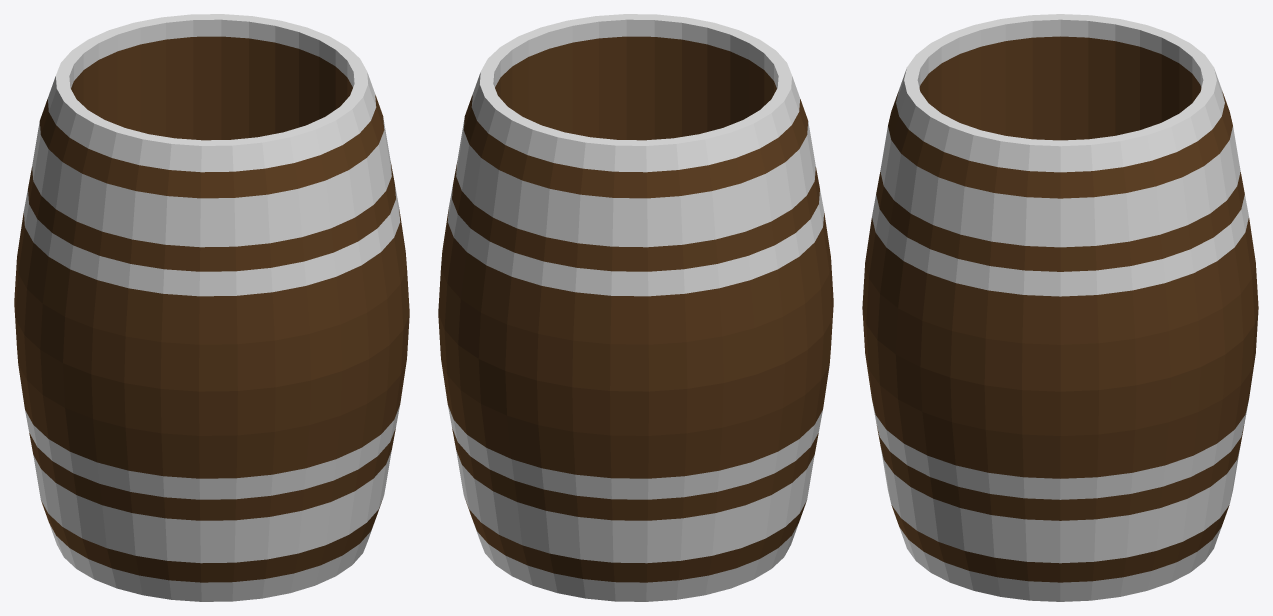
Rendered from opend_barrel.fbx.
3 renders of one model, left to right at view 1: azimuth 30°, elevation 25°; view 2: azimuth 150°, elevation 25°; view 3: azimuth 270°, elevation 25°, orthographic.
Parts seen in each view (by area): view 1: Cylinder.001; view 2: Cylinder.001; view 3: Cylinder.001.
Part boxes in pixels (bbox=[...]): Cylinder.001: bbox=[14, 14, 409, 601]; Cylinder.001: bbox=[438, 14, 833, 601]; Cylinder.001: bbox=[862, 14, 1258, 601].
Size of the model in its own units: 236 by 300 by 236.
